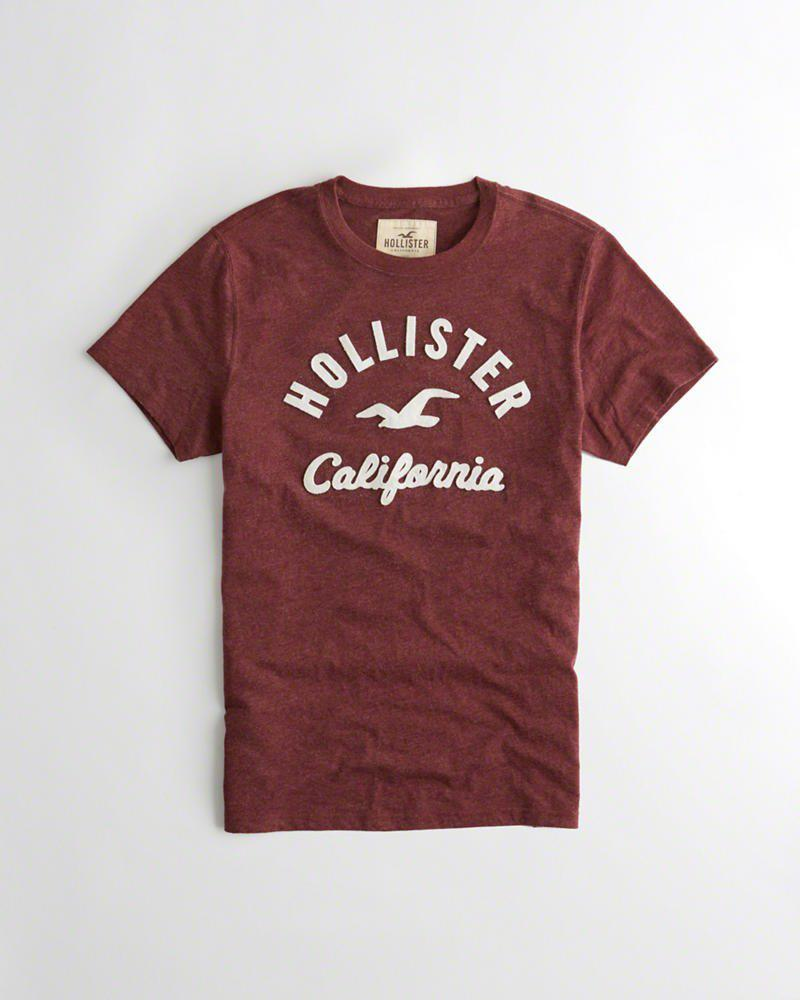teeshirt: (65, 166, 721, 895)
